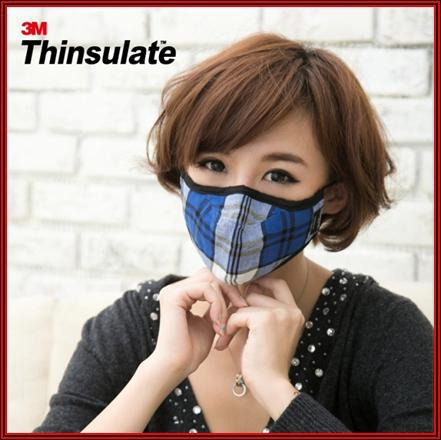OK: (186, 138, 327, 279)
